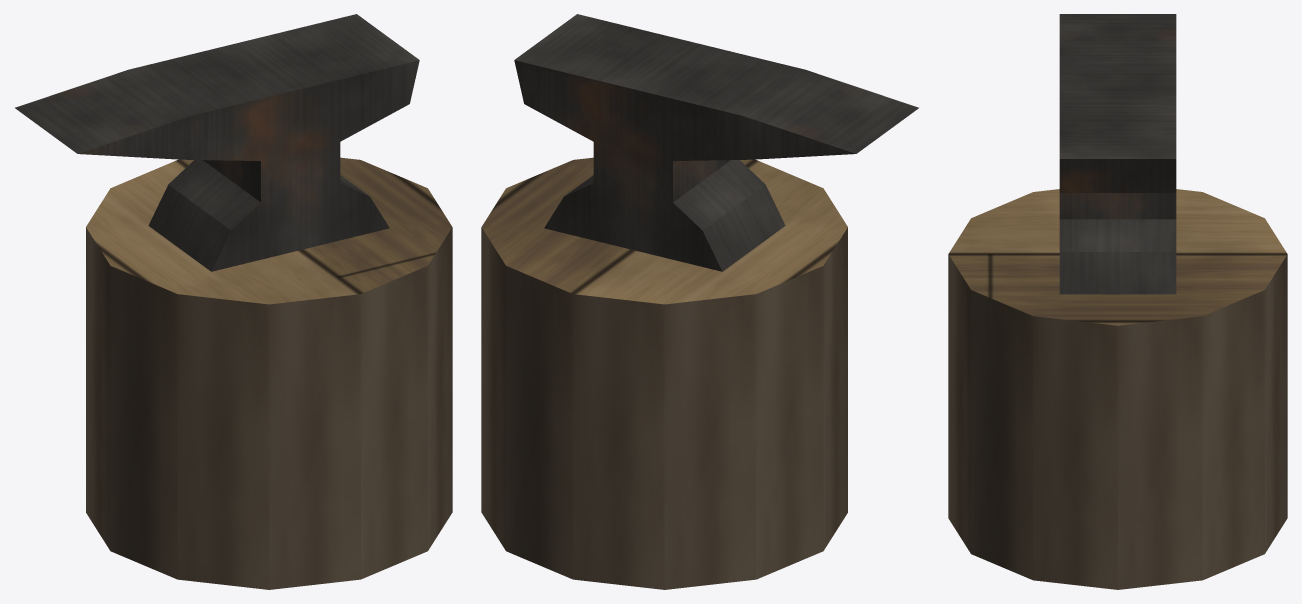
The model's file is anvil.gltf.
The picture shows the model from 3 angles, left to right: view 1: azimuth 30°, elevation 25°; view 2: azimuth 150°, elevation 25°; view 3: azimuth 270°, elevation 25°; orthographic projection. The views are drawn at different scales.
Visible parts, largest first — view 1: INT_anvil; view 2: INT_anvil; view 3: INT_anvil.
Boxes of the visible parts, bbox=[...] form: INT_anvil: bbox=[15, 14, 452, 589]; INT_anvil: bbox=[481, 14, 918, 589]; INT_anvil: bbox=[948, 14, 1287, 589].
Size of what is drawn, in the model's own units: 0.77 by 0.86 by 0.64.
Materials: 3 (3 with a texture image).
